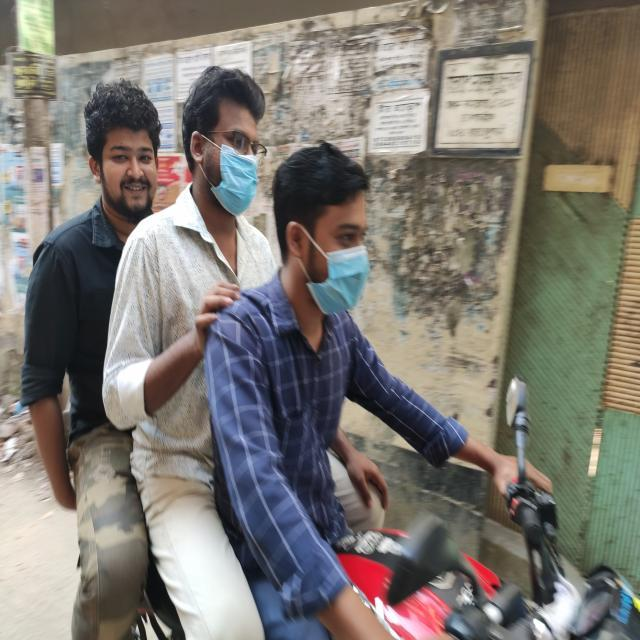Overloading: (31, 22, 518, 592)
